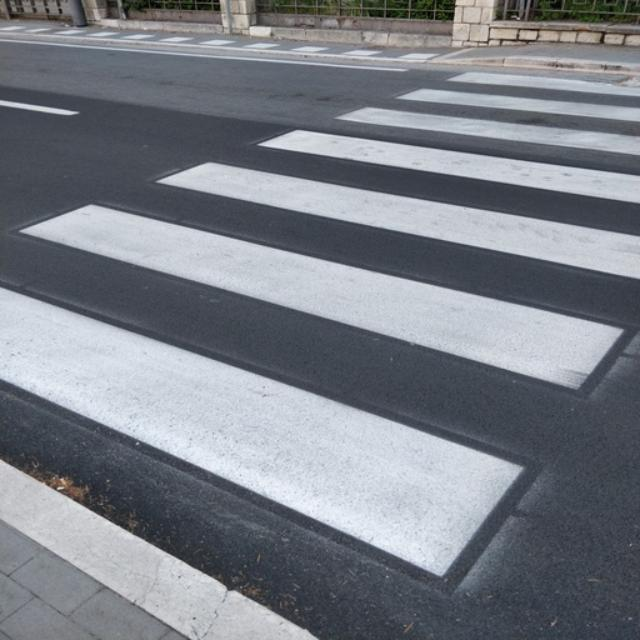sidewalk: (0, 67, 640, 639)
